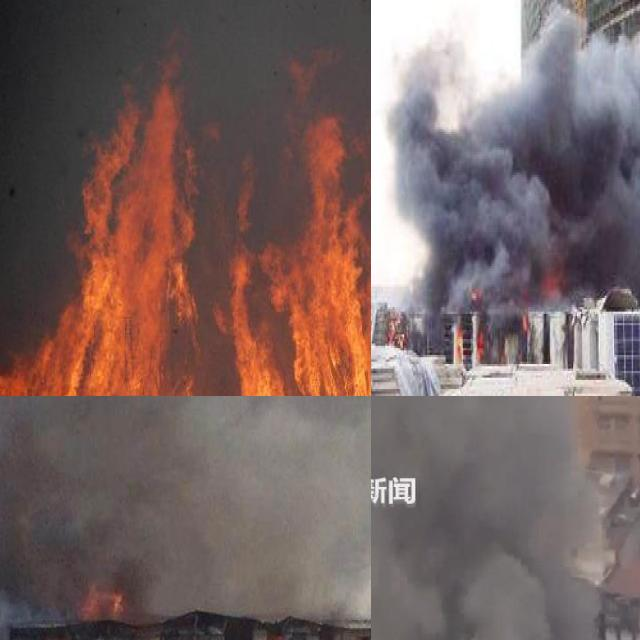fire: (0, 76, 371, 396), (78, 585, 126, 619), (385, 307, 405, 344), (51, 634, 75, 640)
smoke: (386, 0, 640, 304), (0, 396, 371, 602), (371, 396, 640, 640)
